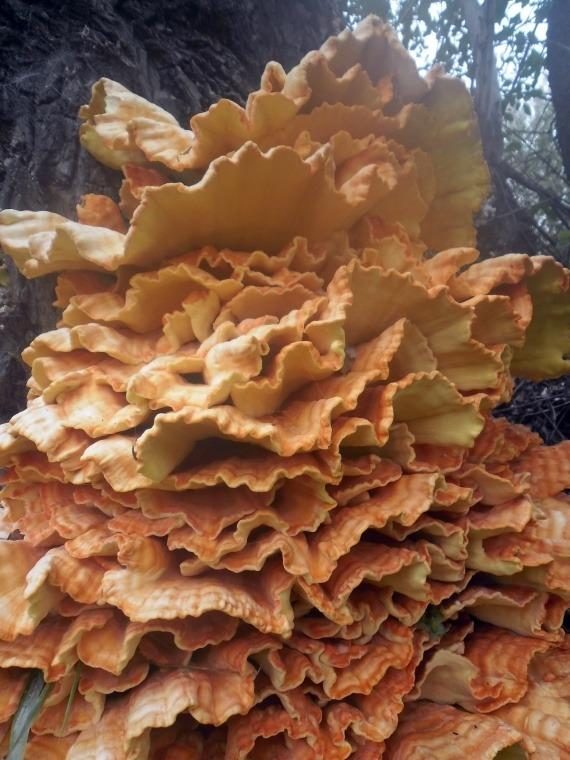Sulphur-yellow tinder fungus: (0, 18, 569, 759)
